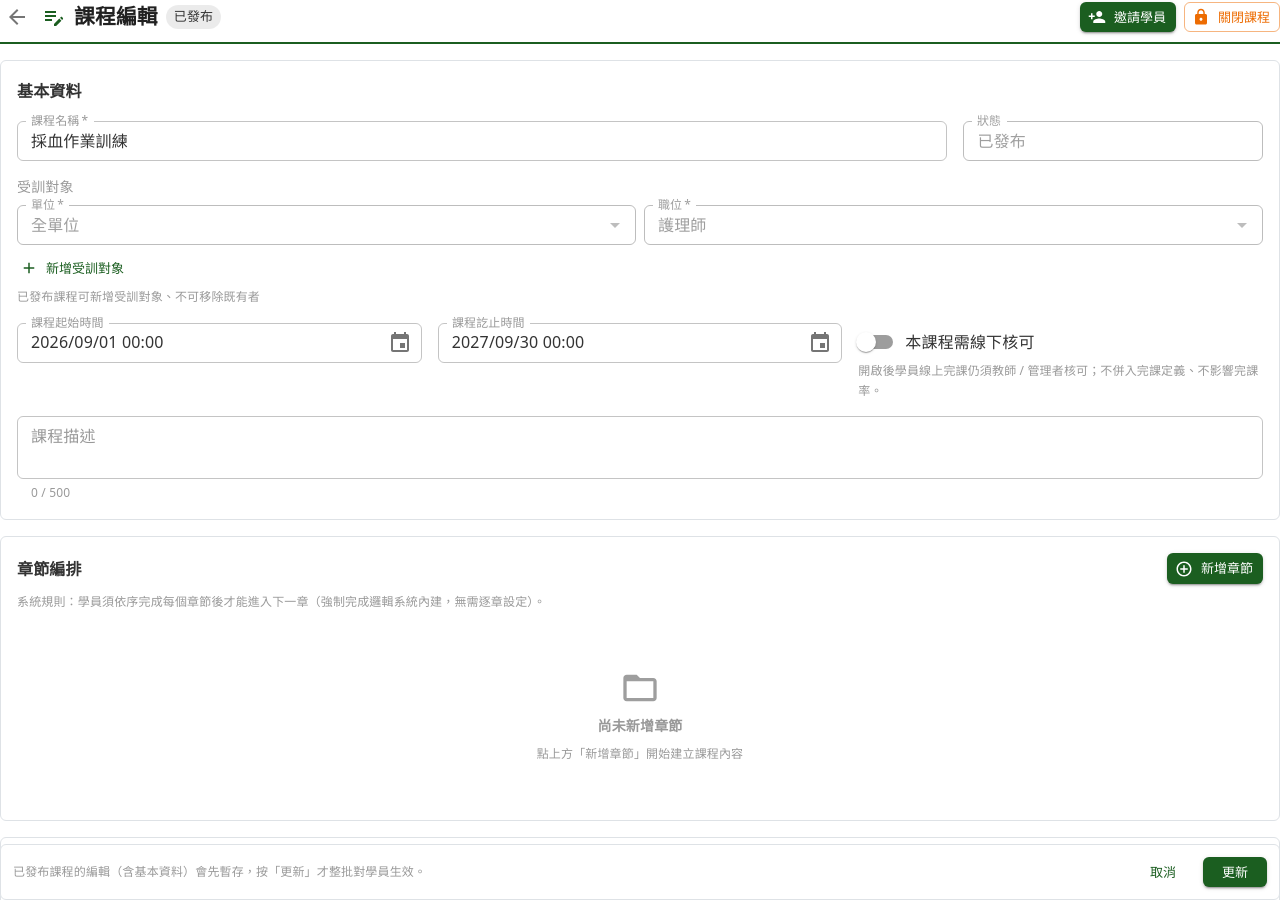
it: ET05 課程關閉與再開課 › 關閉遇版本衝突時顯示衝突視窗而非成功訊息
The image size is (1280, 900).
Step 1. Click the button "關閉課程" → {"x": 1232, "y": 17}, box [1184, 2, 1279, 32]
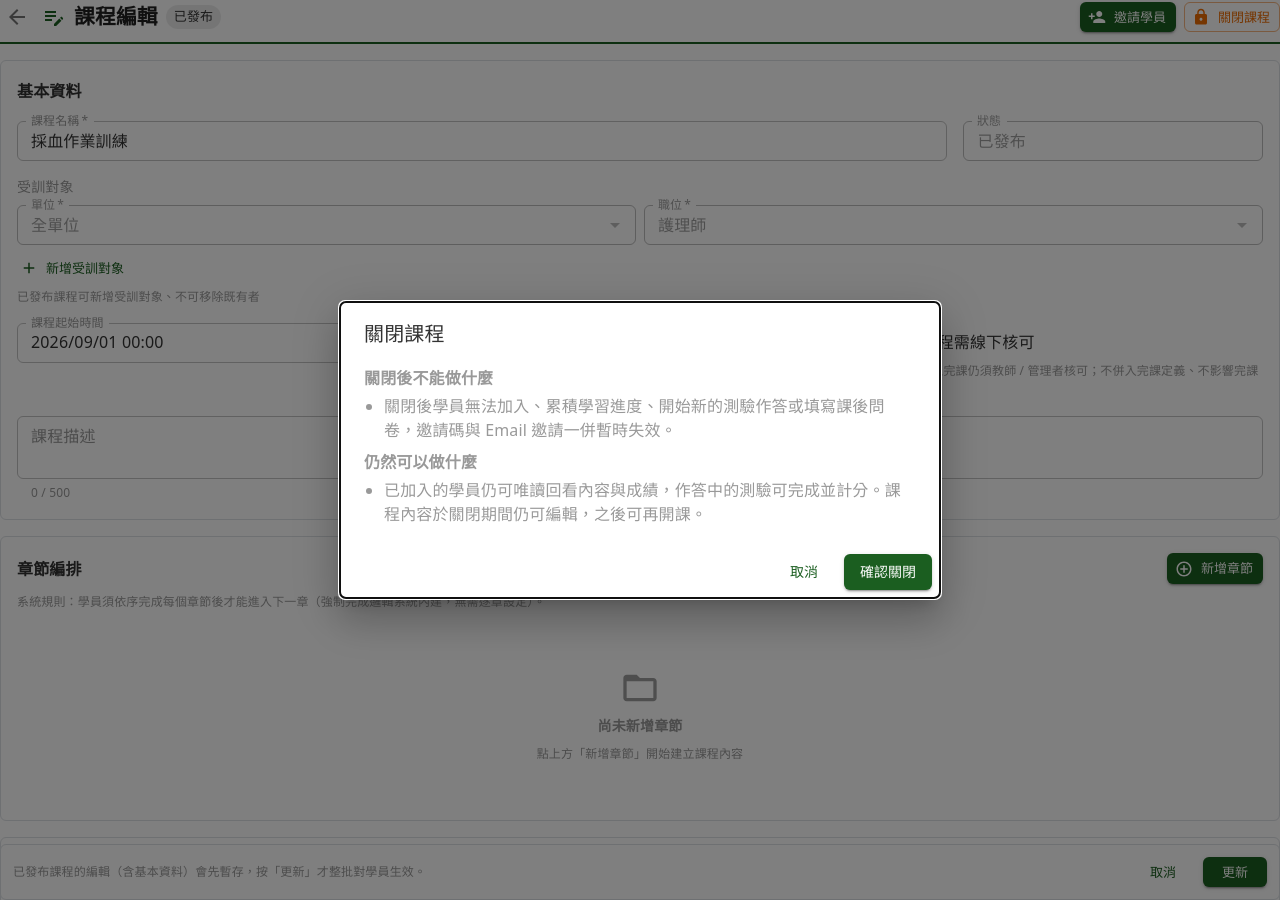
Step 2. Click the button "確認關閉" → {"x": 888, "y": 572}, box [844, 554, 932, 590]
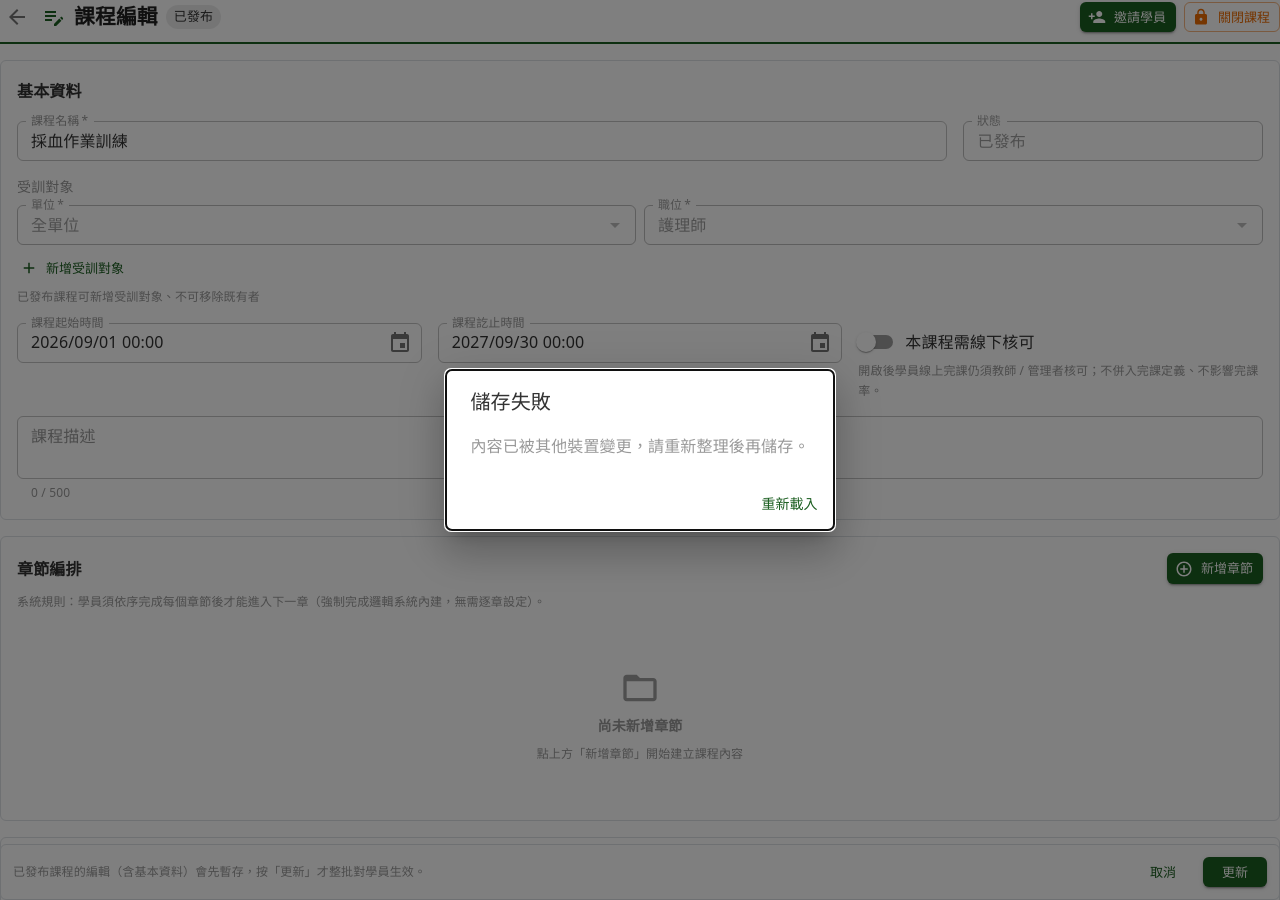
Expected: the text "內容已被其他裝置變更，請重新整理後再儲存。" is shown, [470, 434, 810, 458]
